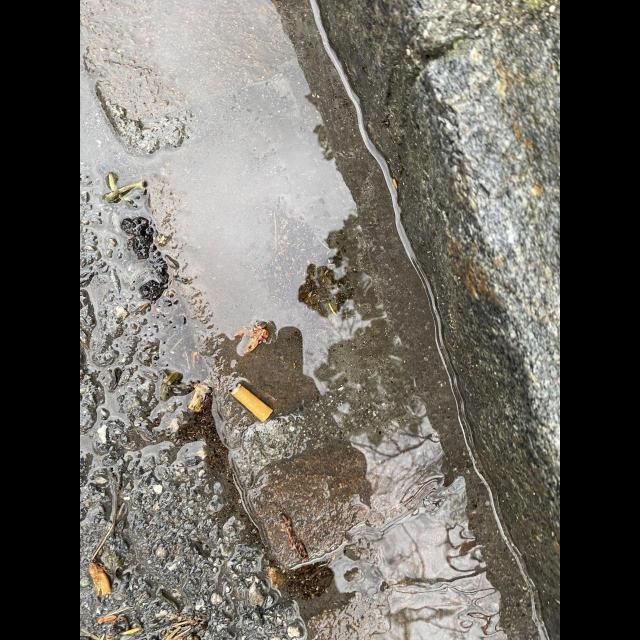cigarette: (229, 383, 273, 422)
